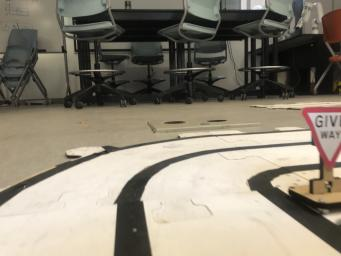give_way: (288, 107, 341, 208), (288, 107, 341, 208), (288, 107, 341, 208)
street: (0, 131, 341, 255), (0, 131, 341, 255), (0, 131, 341, 255)
